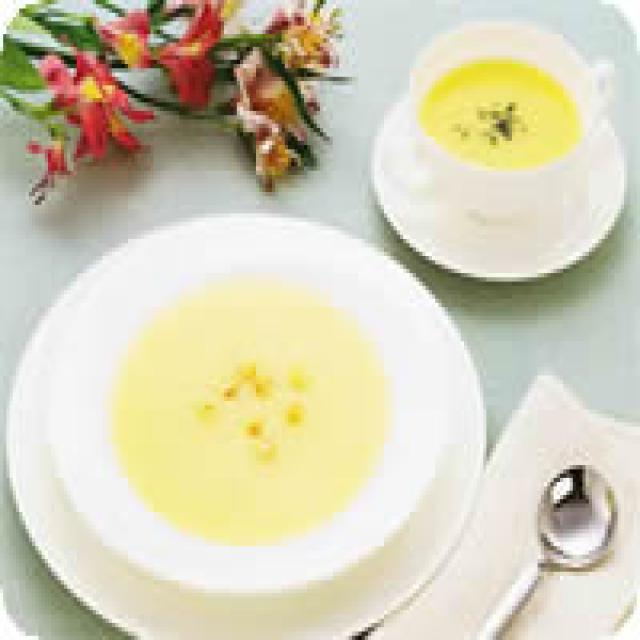汤锅炖物: (0, 205, 490, 640)
